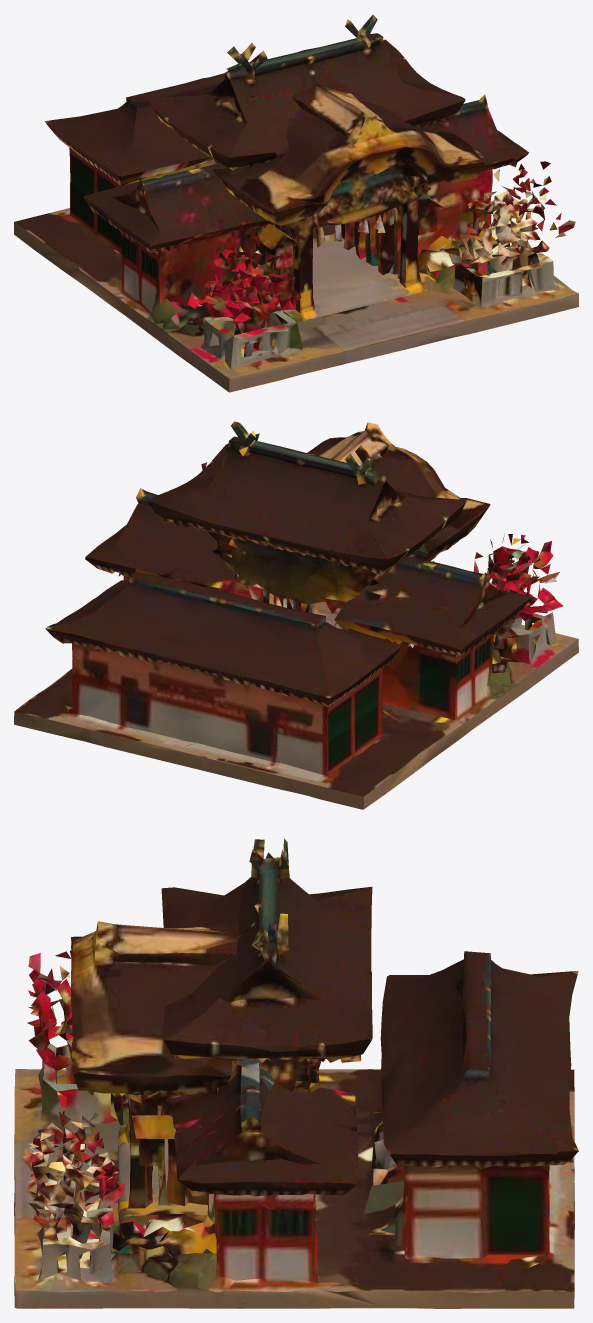
Rendered from kitano-tenmangu.glb.
3 views of the same model, one above another, from view 1: azimuth 30°, elevation 25°; view 2: azimuth 150°, elevation 25°; view 3: azimuth 270°, elevation 25° (orthographic). The views are drawn at different scales.
Parts seen in each view (by area): view 1: logan-textured.obj; view 2: logan-textured.obj; view 3: logan-textured.obj.
Part boxes in pixels (<box>): logan-textured.obj: <box>14,15,578,392</box>; logan-textured.obj: <box>14,421,578,809</box>; logan-textured.obj: <box>14,838,578,1308</box>.
Size of the model in its own units: 1 by 0.6176 by 0.9917.
Materials: 1 (1 with a texture image).
